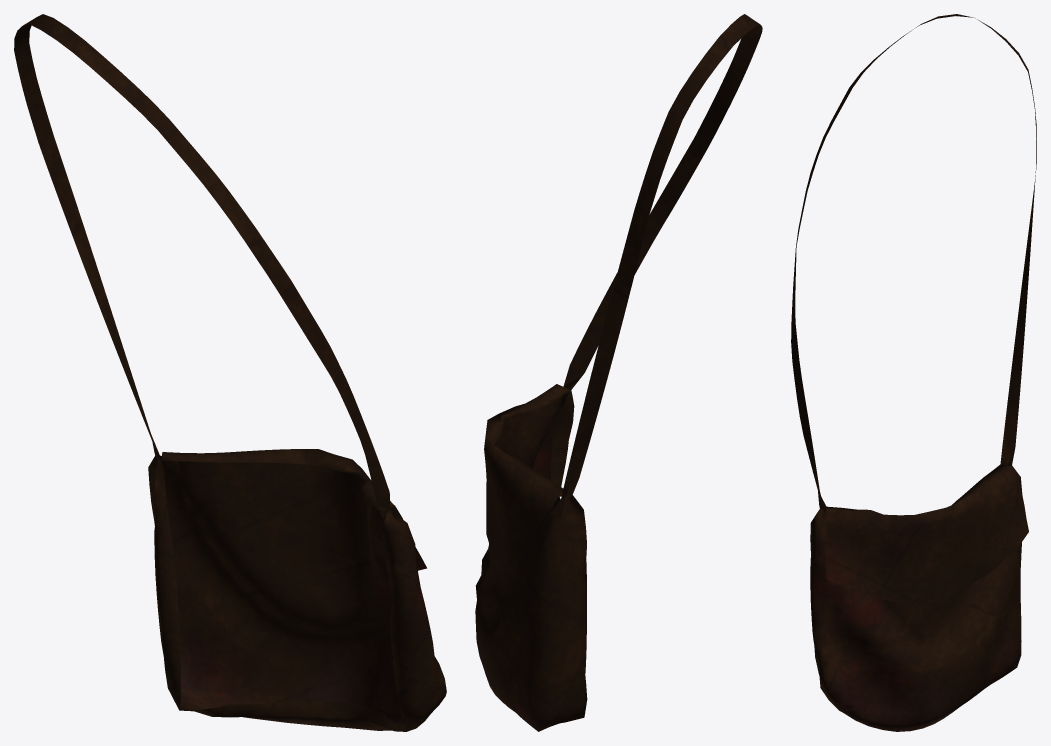
The model's file is bag.fbx.
3 views of the same model, side by side, from view 1: azimuth 30°, elevation 25°; view 2: azimuth 150°, elevation 25°; view 3: azimuth 270°, elevation 25° (orthographic). The views are drawn at different scales.
Visible parts, largest first — view 1: main_clothes2:Pattern2D_4712636; view 2: main_clothes2:Pattern2D_4712636; view 3: main_clothes2:Pattern2D_4712636.
Boxes of the visible parts, left/top/right/bottom form: main_clothes2:Pattern2D_4712636: left=14, top=14, right=446, bottom=731; main_clothes2:Pattern2D_4712636: left=475, top=14, right=762, bottom=731; main_clothes2:Pattern2D_4712636: left=791, top=14, right=1036, bottom=731.
Bounding box in the file's own units: 38.15 × 83.26 × 30.41.
